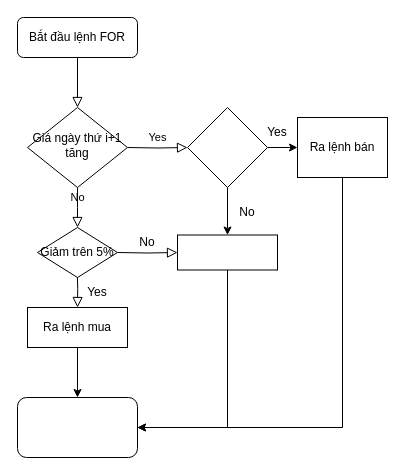
Image size: 405x475. Some labels were removed from this diagram. The centre of each missing label's shape, as x and y in pixels:
"Giữ nguyên" goes at pixel 227 252.
"Kết thúc lệnh FOR" goes at pixel 77 427.
"Tăng trên 7%" goes at pixel 227 147.
